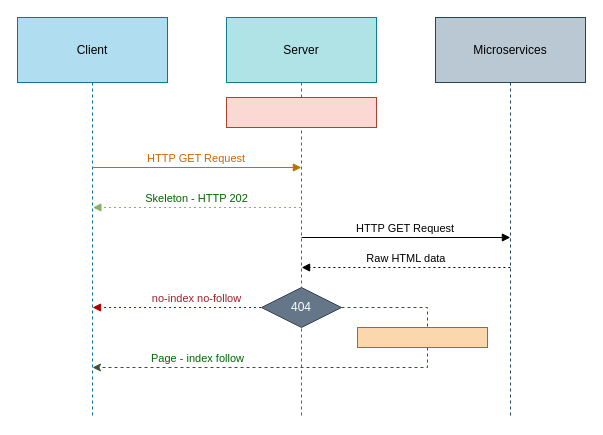
Some shapes in this 603 by 435 pixel diagram are drawn without their labels. The shapes that lost their labels are listed below. From the top down, each one's box as (x1, y1, x2, y2) in pixels, then its label:
(226, 96, 376, 128): NextJS SSR
(356, 326, 488, 348): Process with cheerio
